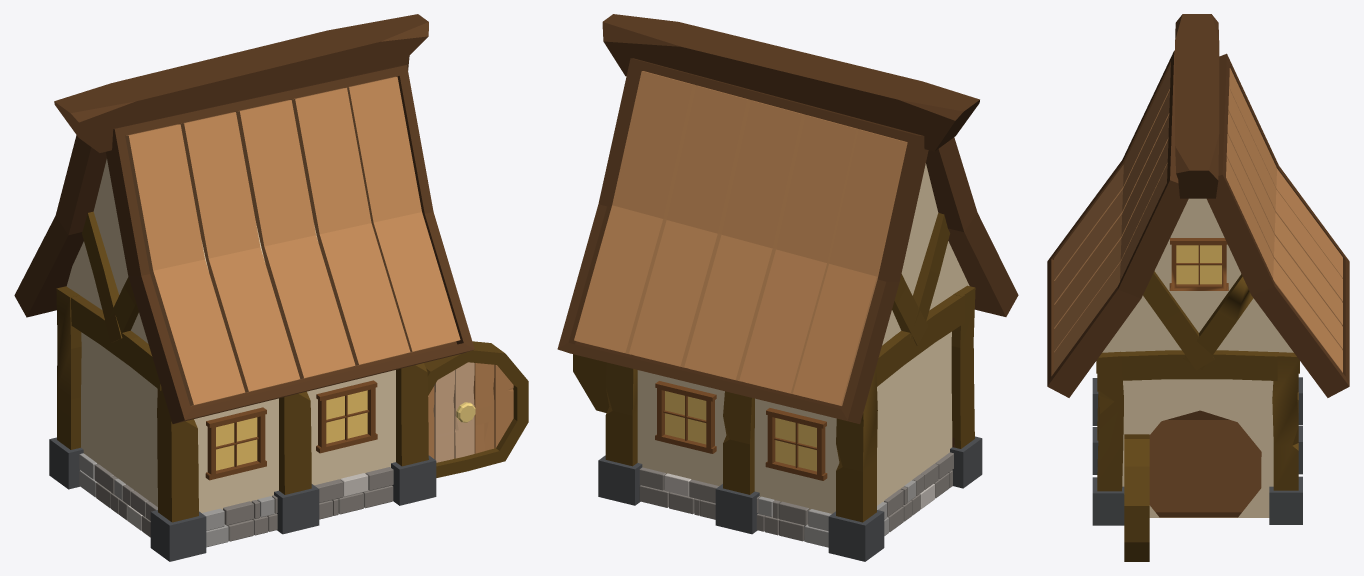
The model's file is HOUSE OPEN.fbx.
3 views of the same model, side by side, from view 1: azimuth 30°, elevation 25°; view 2: azimuth 150°, elevation 25°; view 3: azimuth 270°, elevation 25° (orthographic). The views are drawn at different scales.
Parts seen in each view (by area): view 1: Cube.045; view 2: Cube.045; view 3: Cube.045.
Boxes of the visible parts, box(x1,y1,x2,y2) form: Cube.045: box(14, 14, 528, 561); Cube.045: box(557, 14, 1018, 561); Cube.045: box(1047, 14, 1349, 561).
Size of the model in its own units: 2320 by 2208 by 1611.
